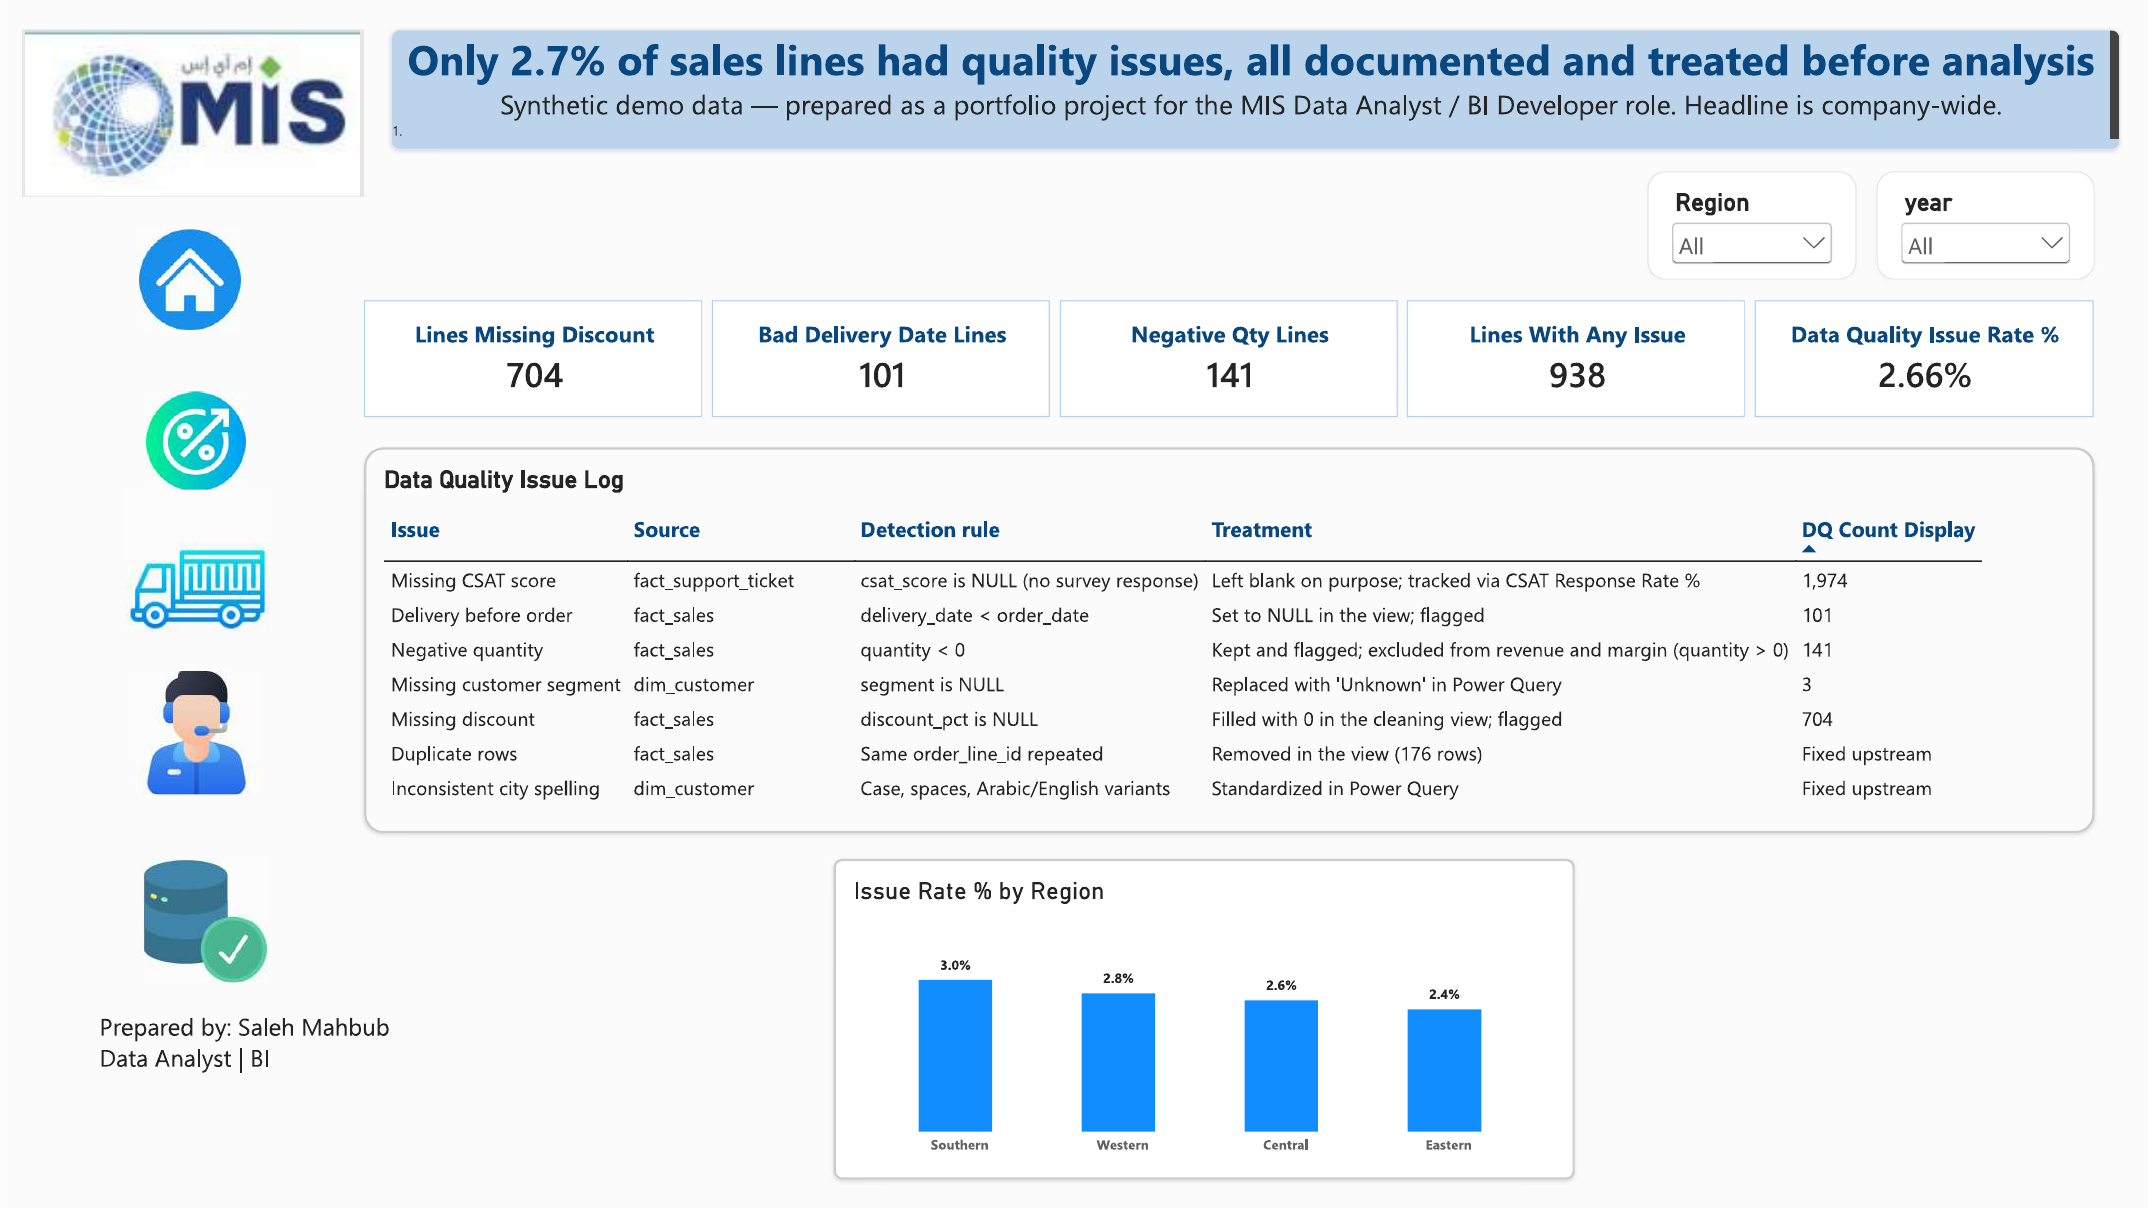

This screenshot's page, from the dashboard's own definition file:
{"tool":"powerbi","page":{"name":"Data Quality & Governance","canvas":[1920,1080],"ordinal":4},"visuals":[{"type":"slicer","fields":{"Values":["dim_region.region_name_en"]},"box":[1472.5,152.5,187.5,97.5],"z":0},{"type":"slicer","fields":{"Values":["dim_date.year"]},"box":[1677.5,152.5,195,97.5],"z":1000},{"type":"textbox","box":[348.7,25.5,1547.7,108.4],"z":2000},{"type":"image","box":[19.1,25.5,306.1,150.9],"z":3000},{"type":"cardVisual","fields":{"Data":["_Measures.Lines Missing Discount","_Measures.Bad Delivery Date Lines","_Measures.Negative Qty Lines","_Measures.Lines With Any Issue","_Measures.Data Quality Issue Rate %"]},"box":[325,267.5,1547.5,105],"z":4000},{"type":"tableEx","title":"Data Quality Issue Log","fields":{"Values":["dq_issue_log.Issue","dq_issue_log.Source","dq_issue_log.Detection rule","dq_issue_log.Treatment","_Measures.DQ Count Display"]},"box":[325,400,1547.5,345],"z":5000},{"type":"clusteredColumnChart","title":"Issue Rate % by Region","fields":{"Category":["dim_region.Region"],"Y":["_Measures.Data Quality Issue Rate %"]},"box":[745,767.5,662.5,287.5],"z":6000},{"type":"image","box":[100,205,137.5,90],"z":6001},{"type":"image","box":[110,350,130,87.5],"z":6002},{"type":"image","box":[100,437.5,150,127.5],"z":6003},{"type":"image","box":[110,600,130,110],"z":6004},{"type":"image","box":[127.5,742.5,110,160],"z":6005},{"type":"textbox","box":[87.5,902.5,277.5,85],"z":6006}]}

Visuals, with their boxes in screenshot pixels (x1, y1, x2, y2), scaled from the page's 1920x1080 canvas onto the 2148x1208 screenshot:
slicer - dim_region.region_name_en: <box>1647,171,1857,280</box>
slicer - dim_date.year: <box>1877,171,2095,280</box>
textbox: <box>390,29,2122,150</box>
image: <box>21,29,364,197</box>
cardVisual - _Measures.Lines Missing Discount x _Measures.Bad Delivery Date Lines: <box>364,299,2095,417</box>
"Data Quality Issue Log" tableEx: <box>364,447,2095,833</box>
"Issue Rate % by Region" clusteredColumnChart: <box>833,858,1575,1180</box>
image: <box>112,229,266,330</box>
image: <box>123,391,268,489</box>
image: <box>112,489,280,632</box>
image: <box>123,671,268,794</box>
image: <box>143,830,266,1009</box>
textbox: <box>98,1009,408,1105</box>
